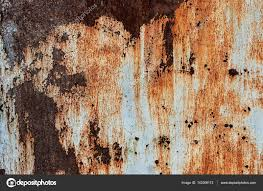rust: (6, 79, 91, 175), (1, 2, 82, 60), (79, 4, 186, 41), (39, 59, 88, 93), (89, 121, 123, 168), (157, 18, 177, 79), (155, 136, 173, 151), (226, 68, 243, 79), (185, 117, 199, 130), (223, 122, 234, 130)
